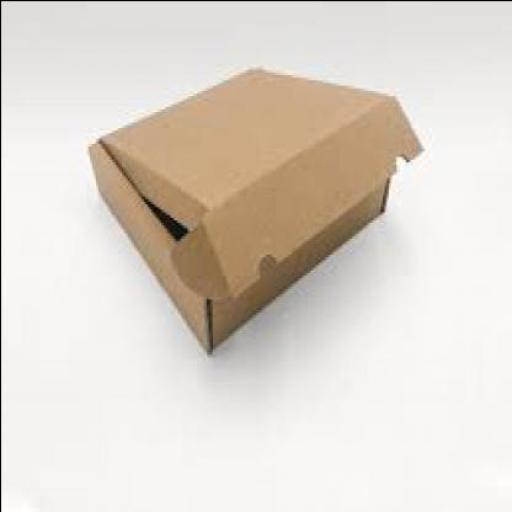cardboard: (90, 64, 426, 352)
